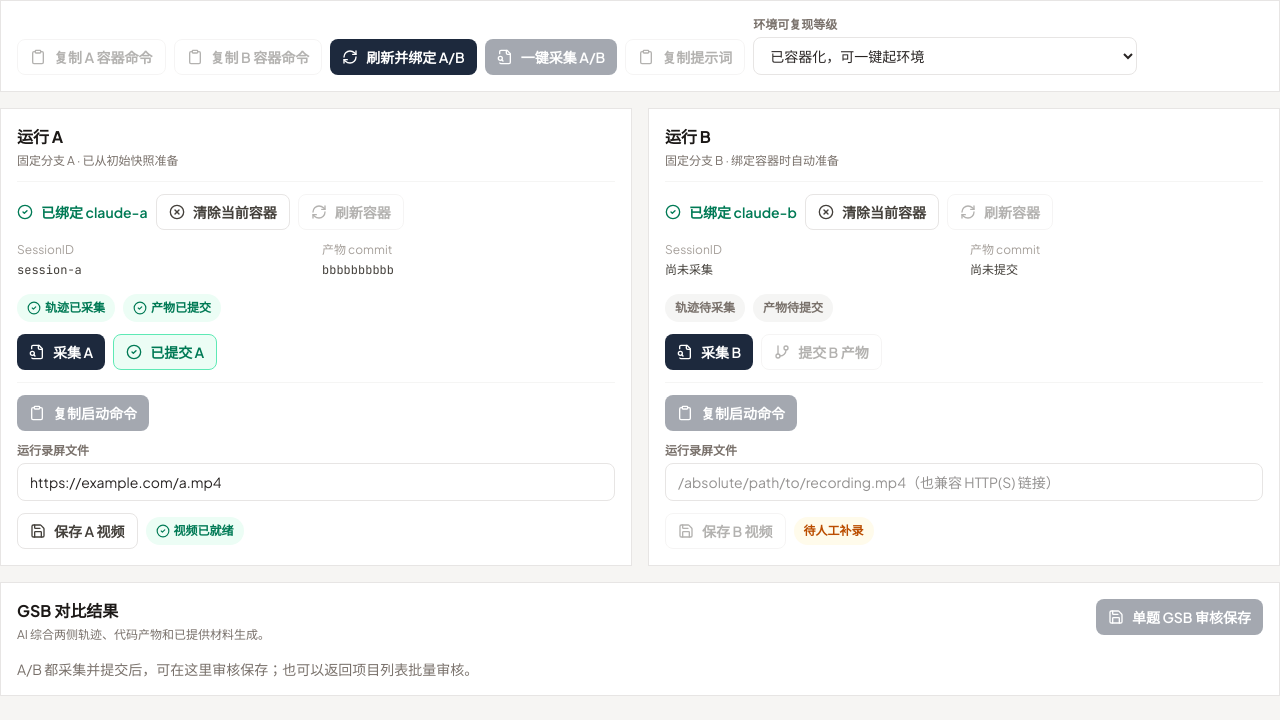
strips pasted quotes from the recording path and keeps the real apostrophe
Type "'/tmp/it's demo.mov'" into the field named "B 视频链接".
click(964, 482); type("'/tmp/it's demo.mov'")  # box [665,463,1263,501]
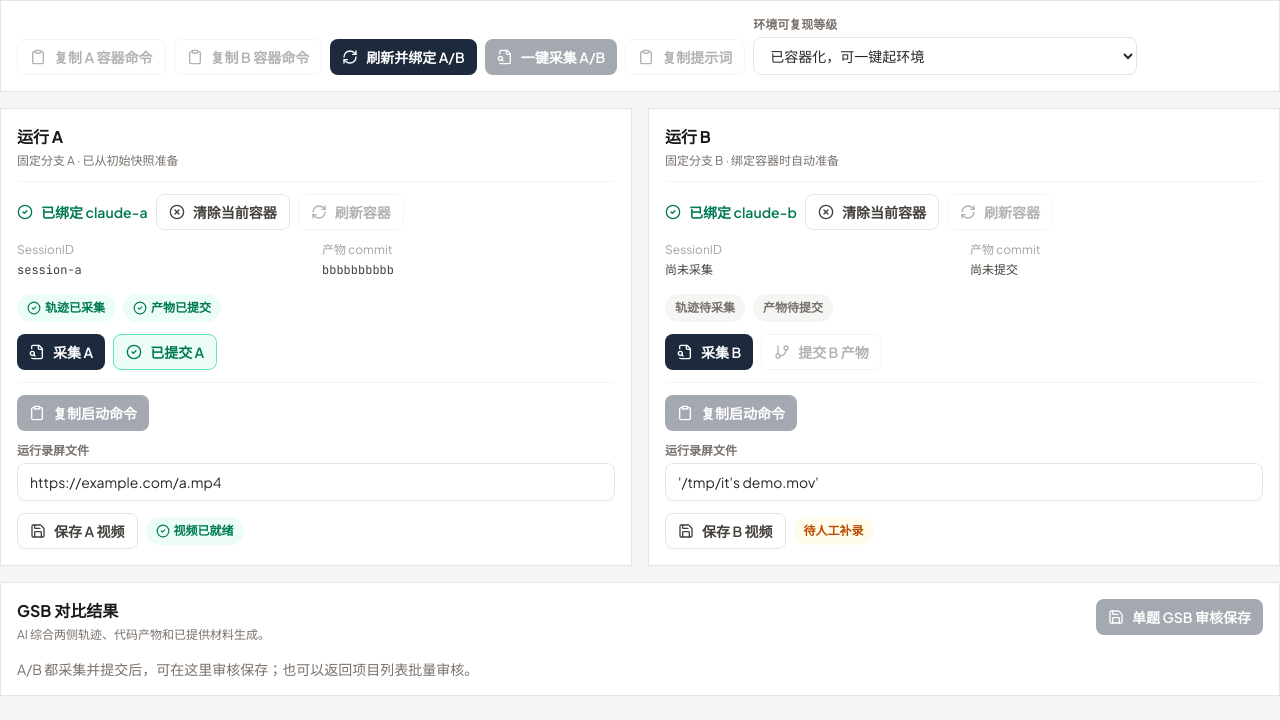
Click the button "保存 B 视频".
click(725, 531)  # box [665,513,786,549]
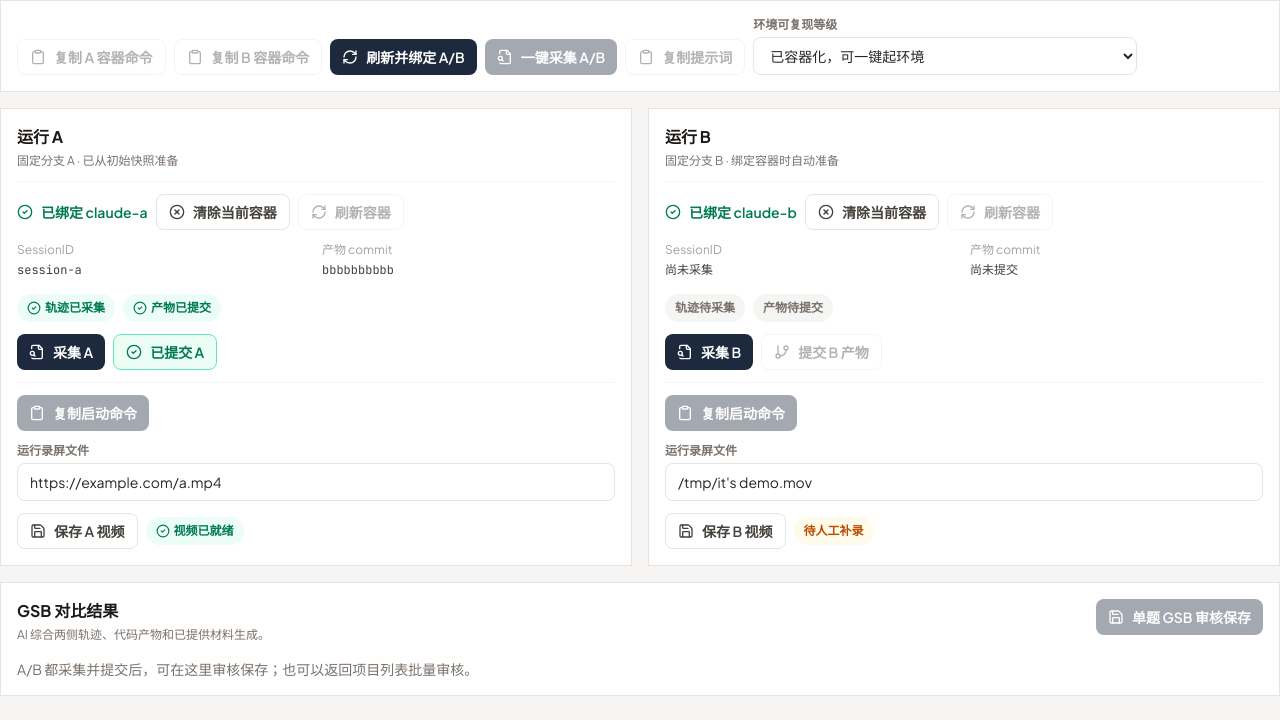
Expected: the field named "B 视频链接" holds "/tmp/it's demo.mov", [665,463,1263,501]
